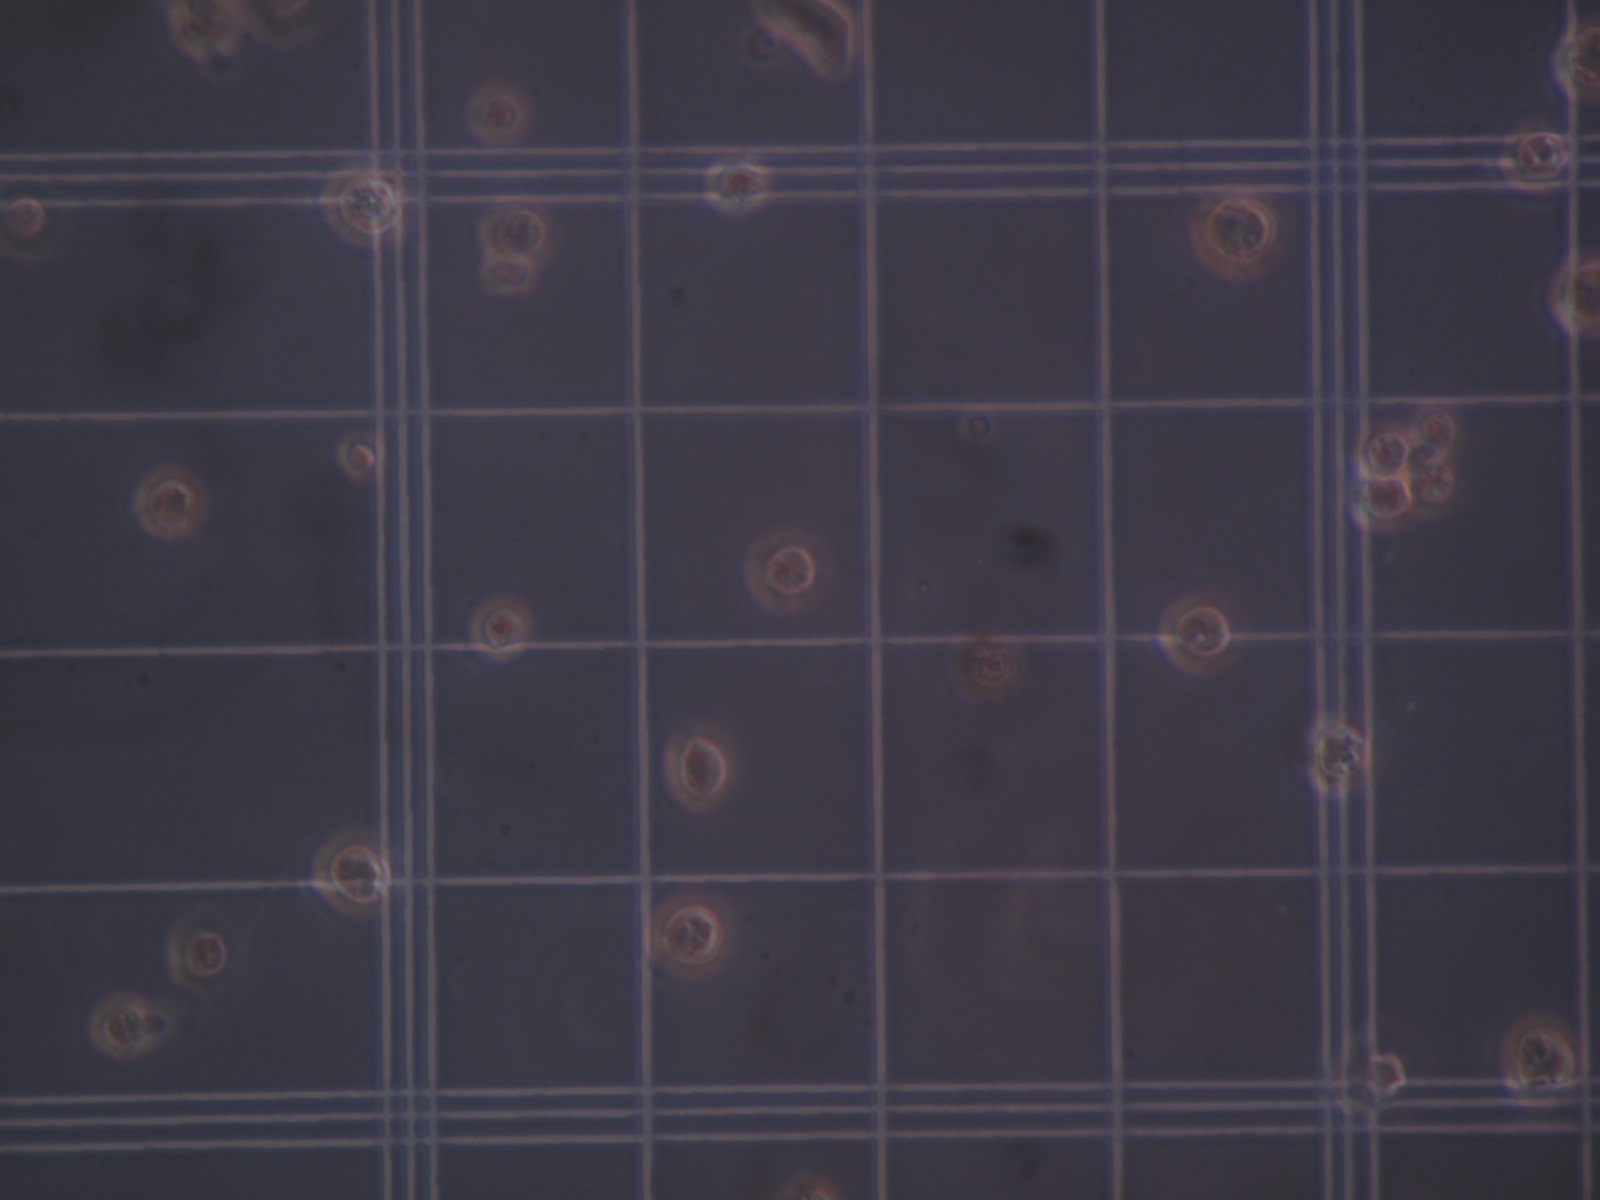hemo: (1188, 184, 1284, 284), (750, 1, 857, 78), (312, 824, 396, 921), (646, 890, 736, 978), (745, 527, 833, 615), (323, 166, 411, 252), (661, 716, 737, 812), (1157, 591, 1240, 678), (1499, 1010, 1581, 1094), (1, 176, 74, 265), (1500, 118, 1574, 199), (1334, 1034, 1410, 1111), (131, 463, 205, 541), (1301, 713, 1367, 800), (168, 914, 228, 998), (91, 989, 154, 1066), (469, 594, 535, 666), (1547, 248, 1600, 335), (477, 202, 553, 262), (1405, 453, 1466, 524), (166, 1, 242, 55), (1550, 25, 1600, 103), (1351, 416, 1412, 479), (466, 84, 528, 145), (1348, 478, 1414, 534), (702, 159, 771, 211), (336, 429, 387, 487), (1414, 407, 1461, 458)
